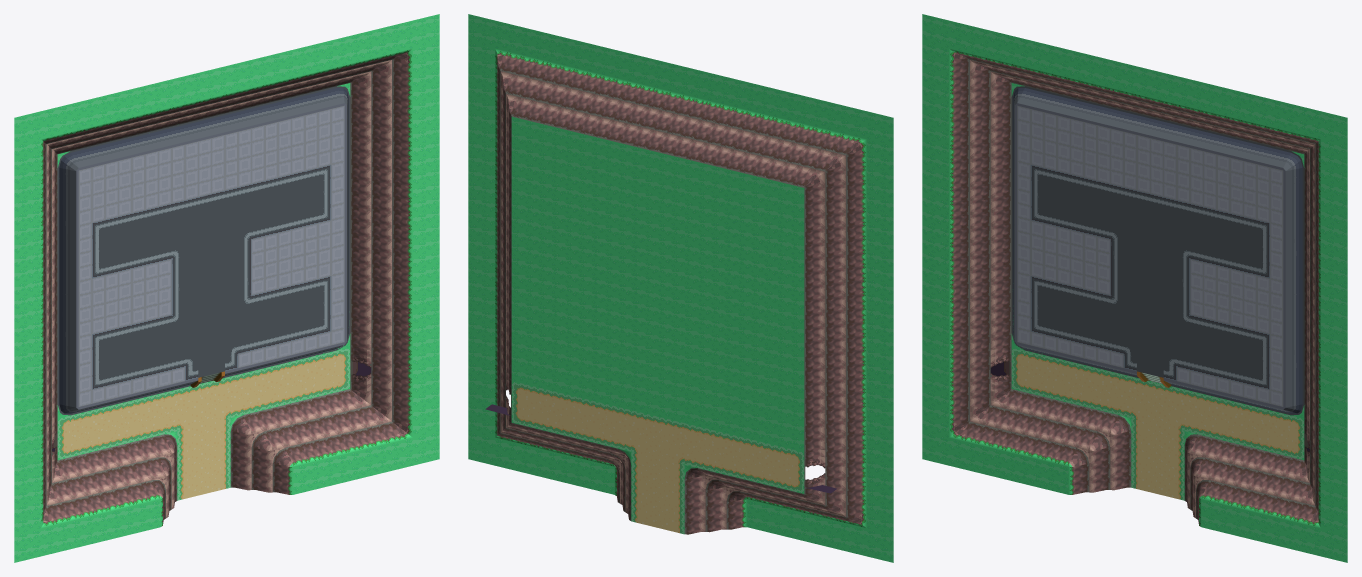
File: Starting World_00_00.obj
The picture shows the model from 3 angles, left to right: view 1: azimuth 30°, elevation 25°; view 2: azimuth 150°, elevation 25°; view 3: azimuth 330°, elevation 25°; orthographic projection.
Visible parts, largest first — view 1: map; view 2: map; view 3: map.
Boxes of the visible parts, left/top/right/bottom form: map: left=14, top=14, right=439, bottom=562; map: left=468, top=14, right=893, bottom=562; map: left=922, top=14, right=1347, bottom=562.
Size of the model in its own units: 32 by 32 by 3.06.
17 materials, 17 textured.
